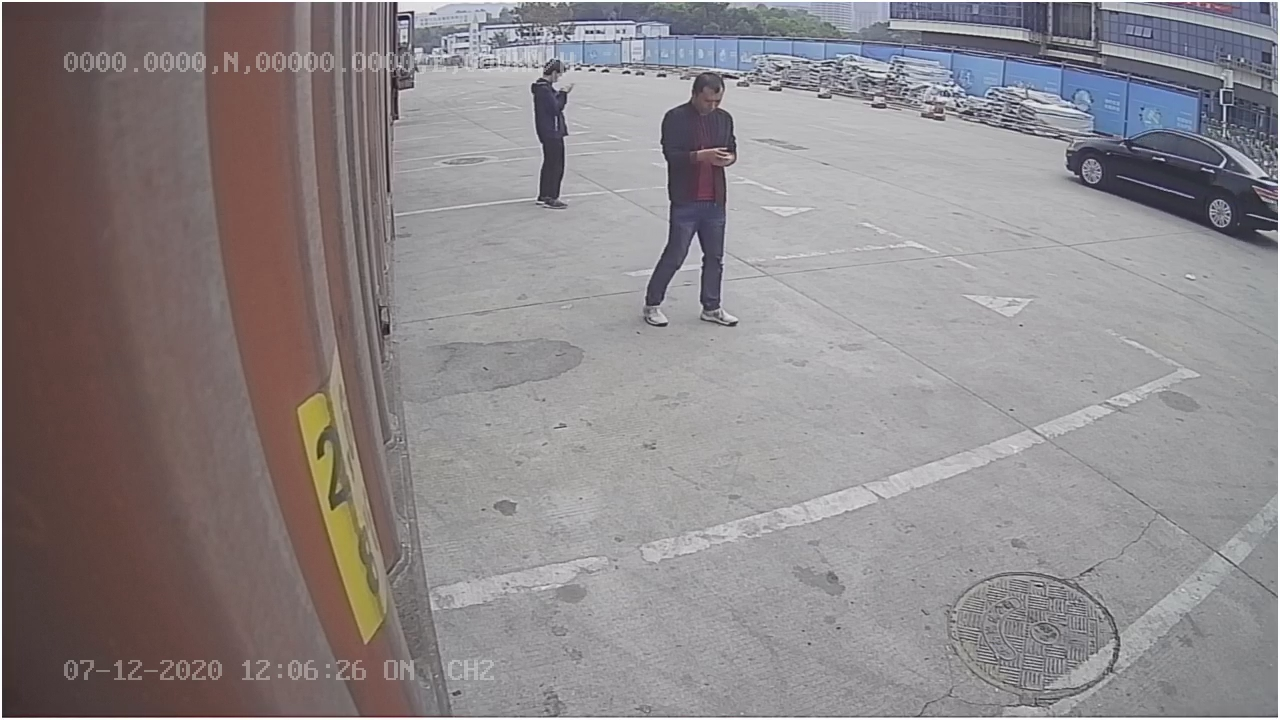person: (638, 62, 741, 326)
